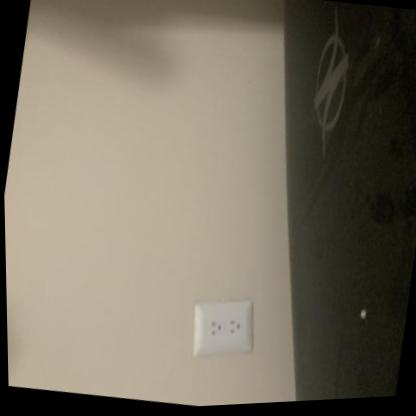OUTLET: (187, 293, 258, 360)
